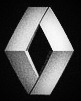Renault: (2, 2, 77, 98)
